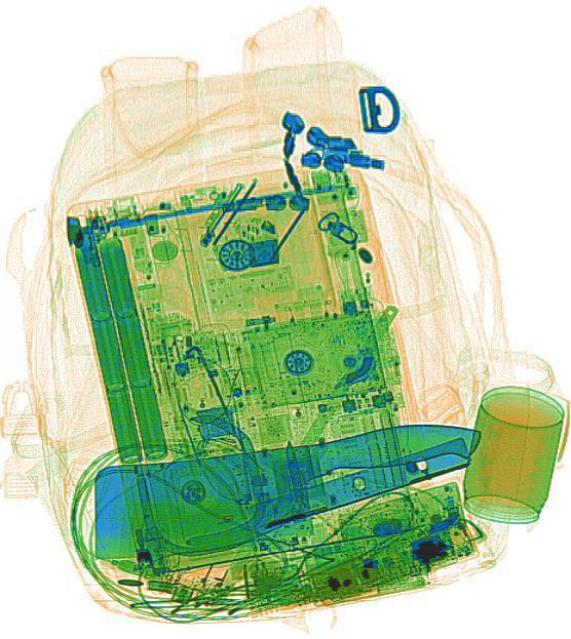Knife: (84, 416, 487, 565)
